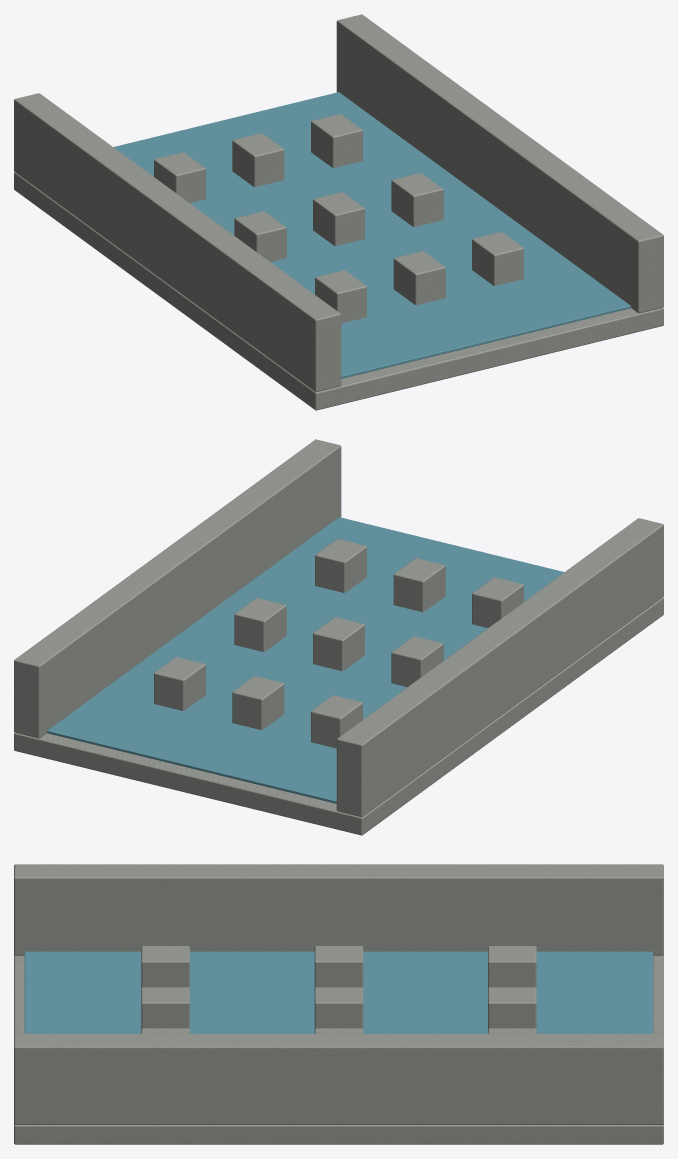
The model's file is hydroelectric-dam-infiltration-stilling-basin-5de3d9ac__29335.glb.
3 views of the same model, one above another, from view 1: azimuth 30°, elevation 25°; view 2: azimuth 150°, elevation 25°; view 3: azimuth 270°, elevation 25° (orthographic). The views are drawn at different scales.
Visible parts, largest first — view 1: stilling-basin; view 2: stilling-basin; view 3: stilling-basin.
Part boxes in pixels (<box>): stilling-basin: <box>14,14,663,410</box>; stilling-basin: <box>14,439,663,835</box>; stilling-basin: <box>14,864,663,1144</box>.
Bounding box in the file's own units: 4 × 0.9998 × 6.
Materials: 2 (1 with a texture image).
